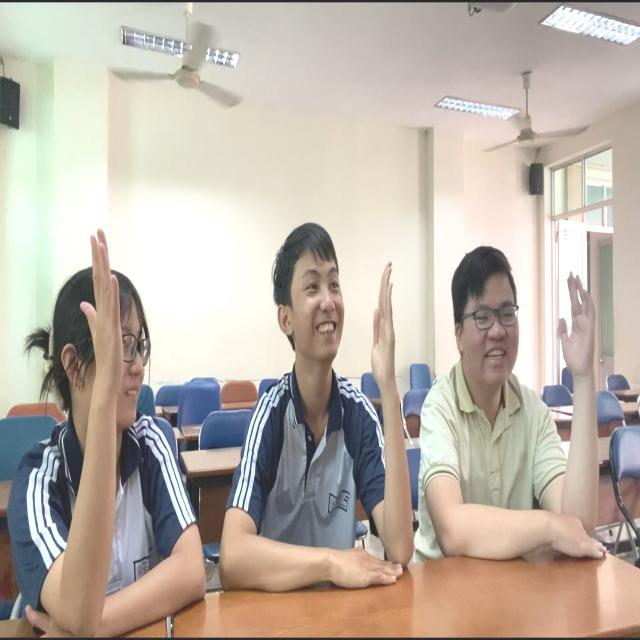raise_hand: (8, 215, 208, 625), (408, 228, 635, 579), (224, 216, 422, 603)
